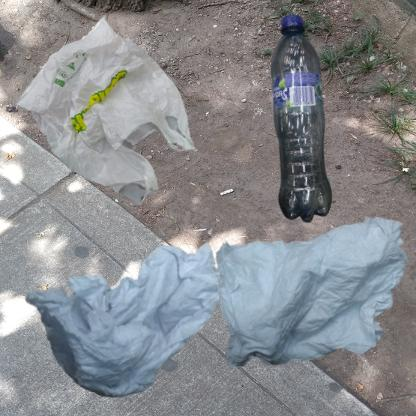bolsa: (10, 10, 202, 213)
botella: (213, 10, 416, 275)
papel: (10, 213, 236, 416), (213, 213, 416, 372)
